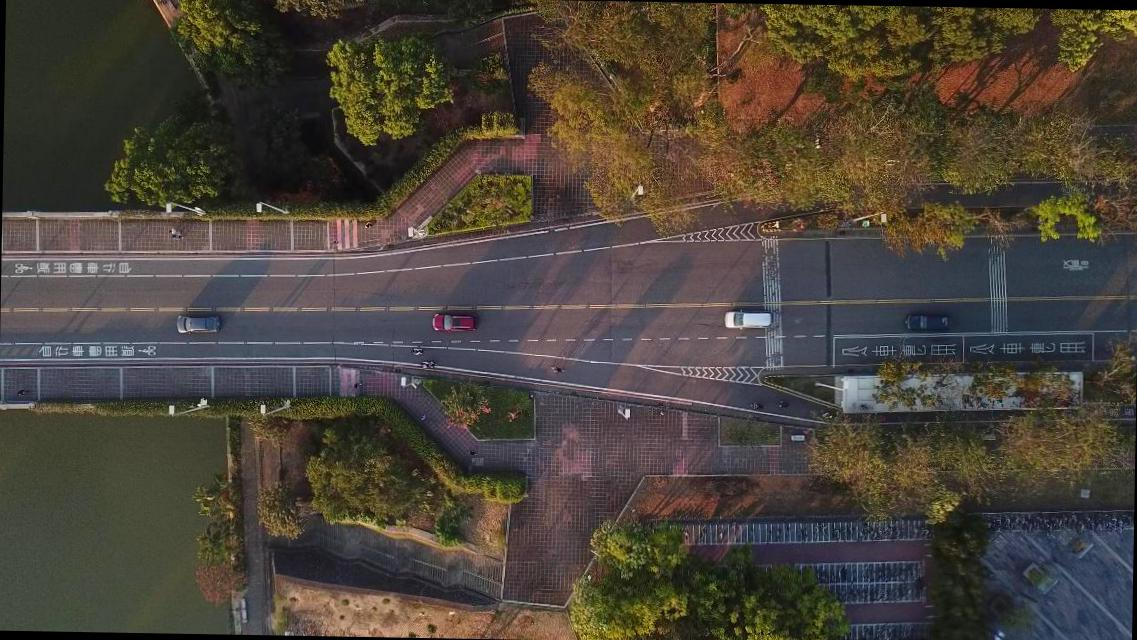vehicle: (432, 310, 477, 332), (724, 308, 771, 329), (176, 313, 221, 334), (905, 313, 954, 332)
